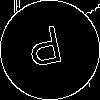P: (25, 25, 67, 77)
